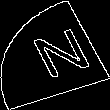N_S: (18, 24, 92, 86)
